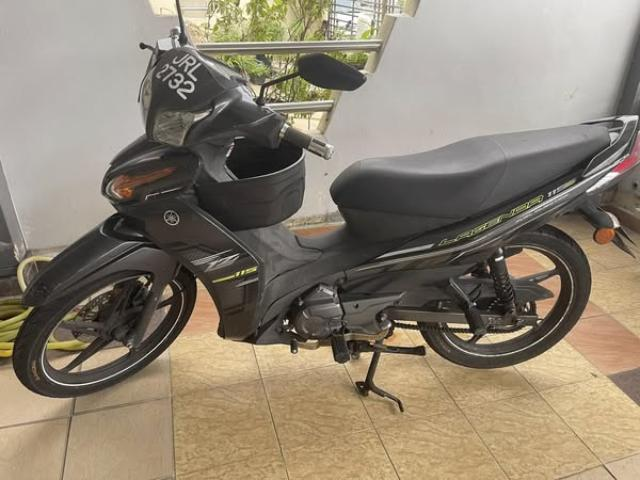License_Plate: (155, 50, 203, 102)
motorcycle: (12, 1, 639, 411)
